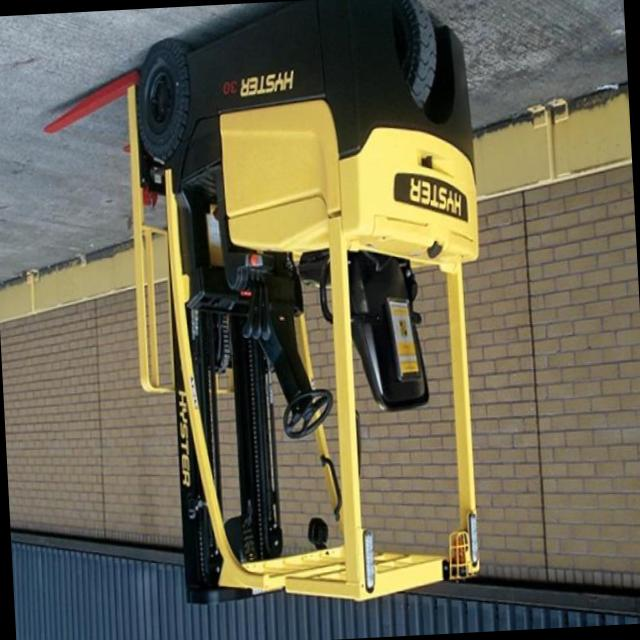forklift: (118, 0, 508, 621)
